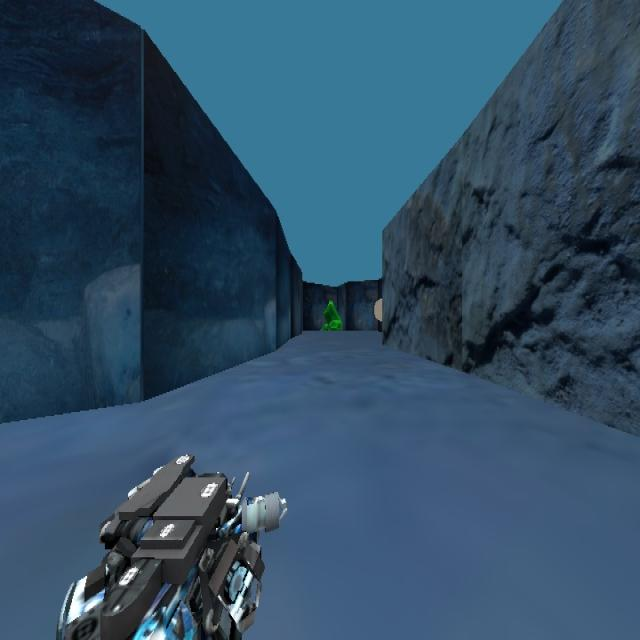Alien: (320, 297, 342, 331)
Circle: (373, 299, 389, 328)
